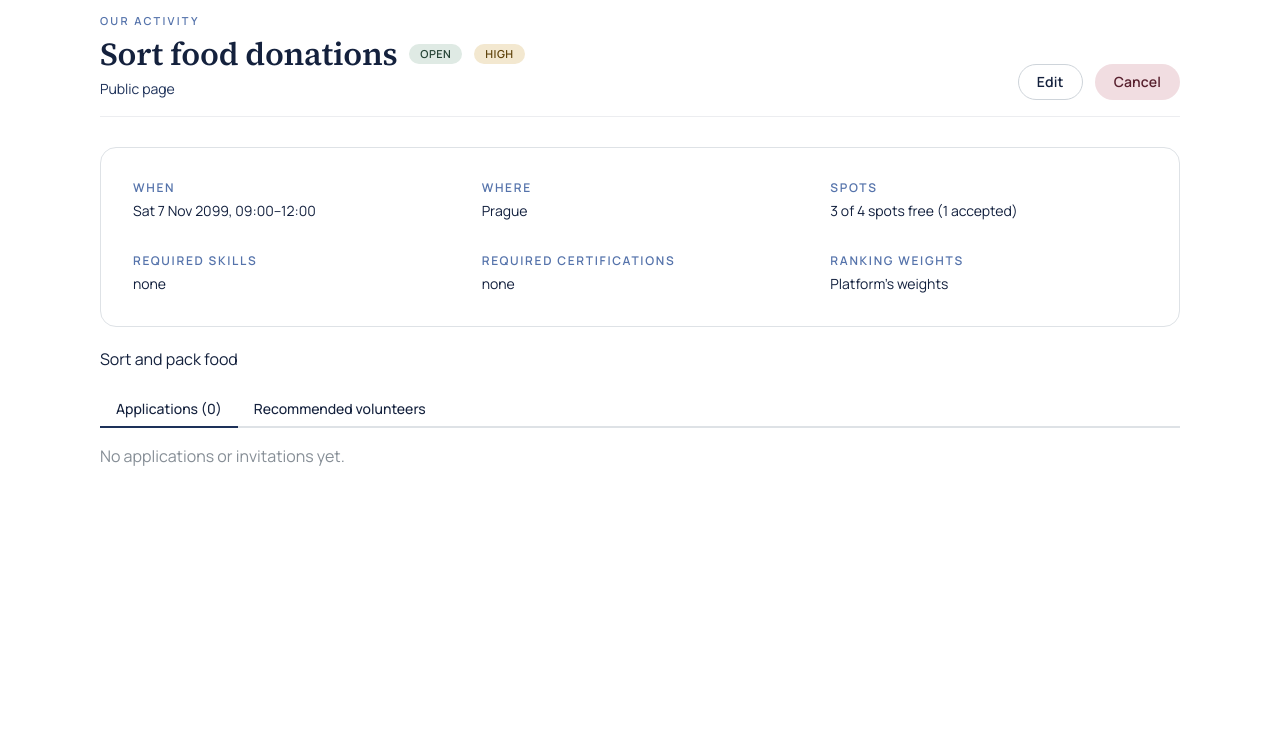
it: ManageActivityPage › invites a recommended volunteer, who then moves to the applications as an invitation
Expected: the tab "Applications (0)" is shown, [100, 392, 238, 428]
Step 1. Click the tab "Recommended volunteers" → (340, 410), box [238, 392, 442, 428]
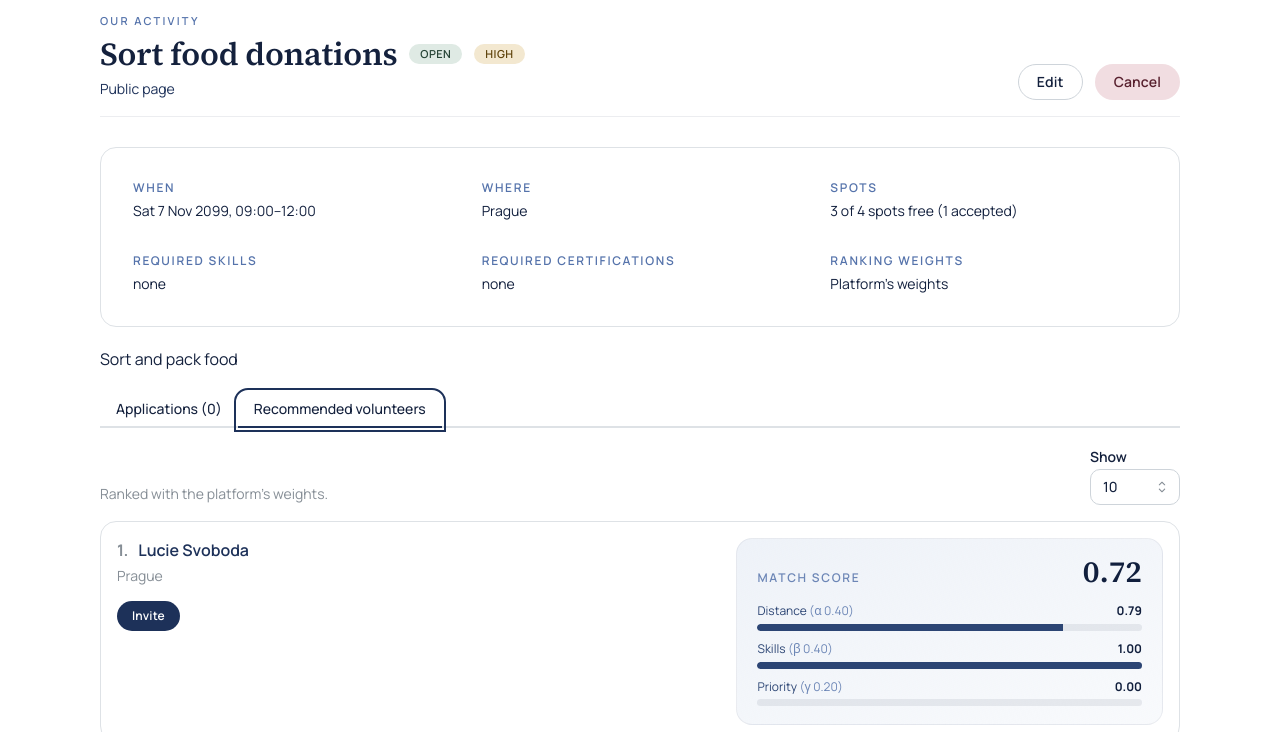
Now the text with test id "score-total" reads "0.72", box [1083, 550, 1142, 592]
Step 2. Click the button "Invite" → (148, 616), box [117, 601, 180, 631]
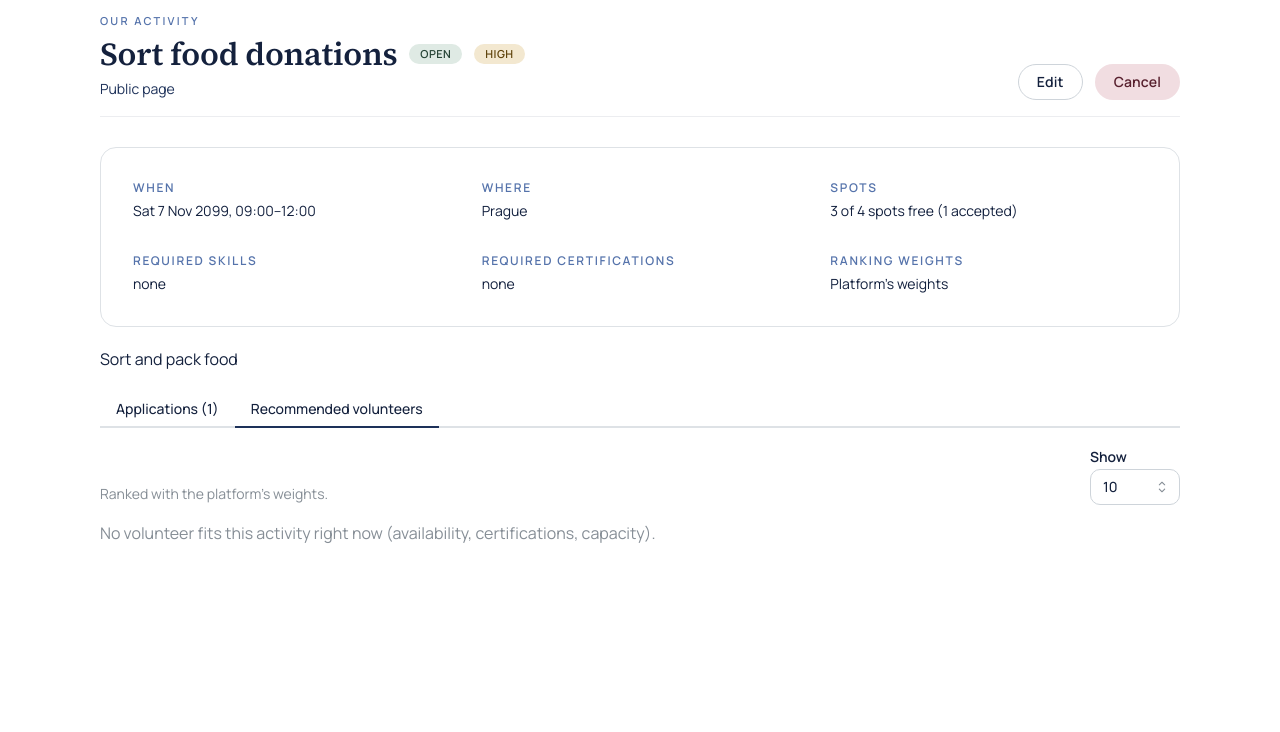
Step 3. Click the tab "Applications (1)" → (167, 410), box [100, 392, 235, 428]
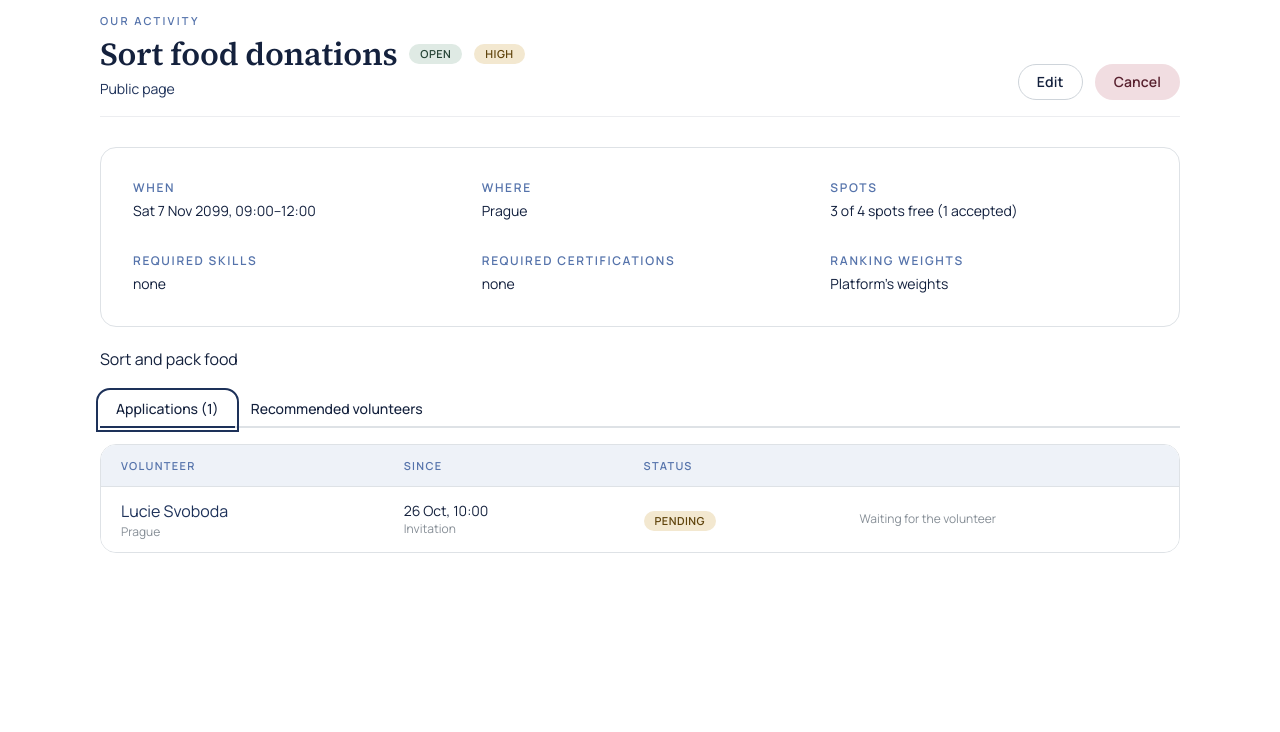
Now the text "Invitation" is shown, box [404, 520, 456, 537]
Now the text "Waiting for the volunteer" is shown, box [860, 510, 996, 527]
